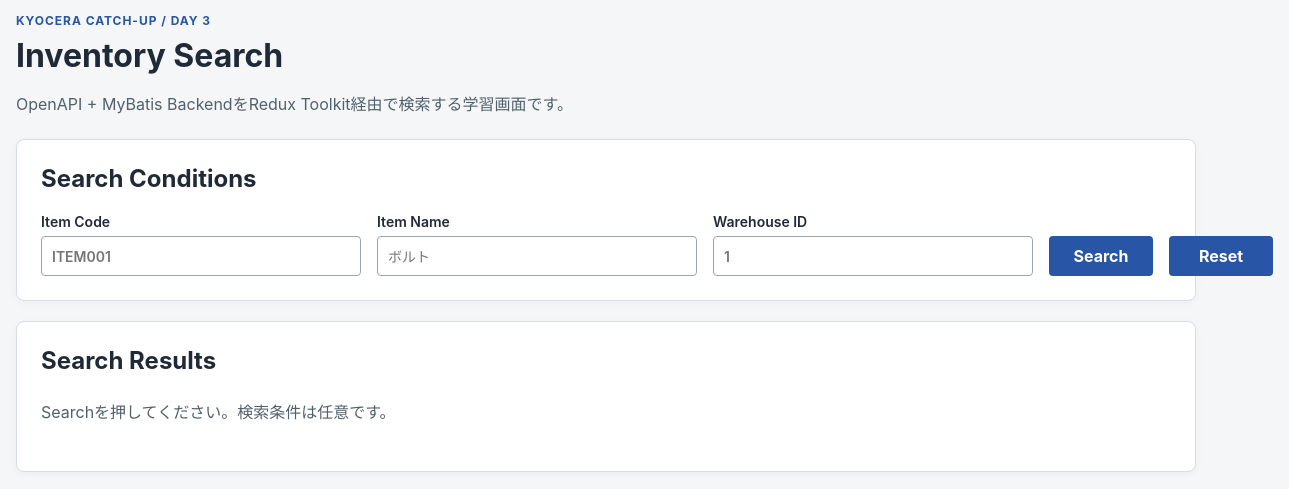
InventoryPage › shows an error when the API request fails
Click the button "Search". click: (1101, 256)
box: [1049,236,1153,276]
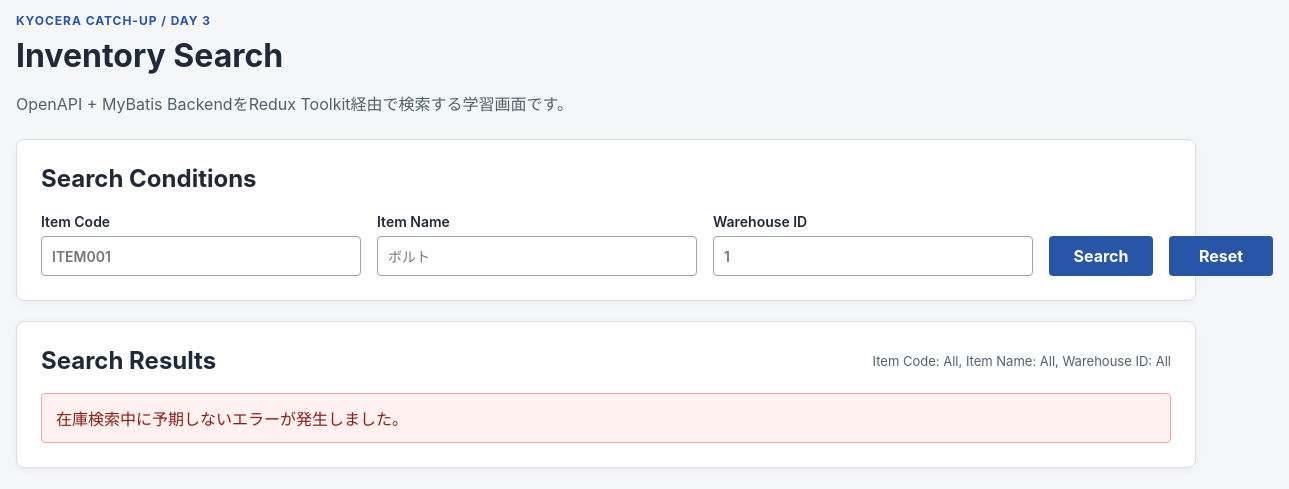
Expected: the text "在庫検索中に予期しないエラーが発生しました。" is shown, [41,393,1171,443]
